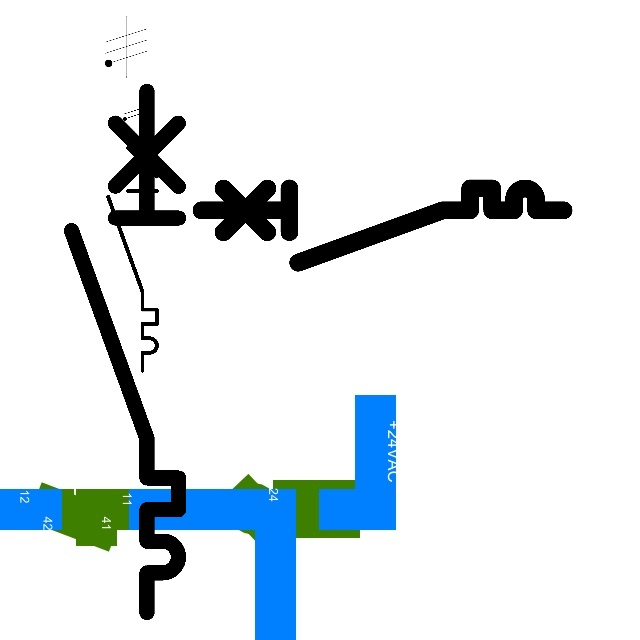interruptor_termomagnetico: (58, 78, 192, 626), (192, 179, 573, 272), (102, 127, 163, 376)
